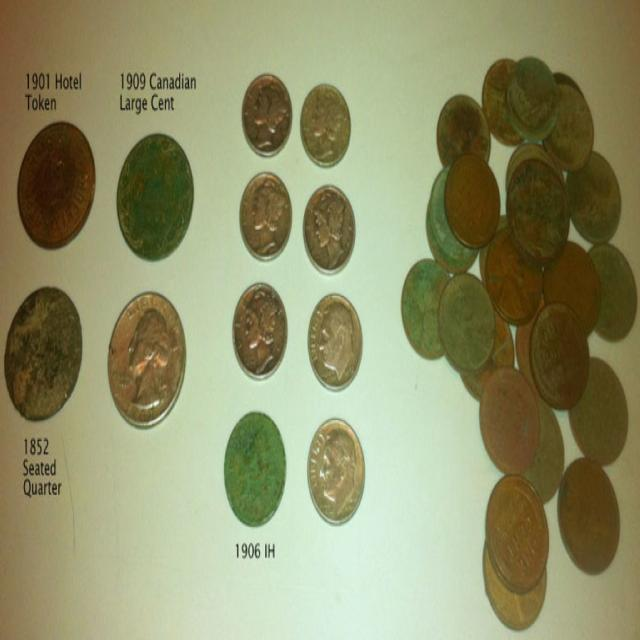Coin: (398, 53, 639, 625), (97, 283, 183, 432), (8, 284, 84, 425), (112, 128, 193, 259), (23, 110, 99, 241), (222, 411, 287, 528), (306, 419, 366, 524), (298, 178, 357, 268), (311, 286, 360, 391), (239, 160, 290, 257), (236, 280, 286, 375), (243, 76, 292, 158), (303, 84, 352, 158)
